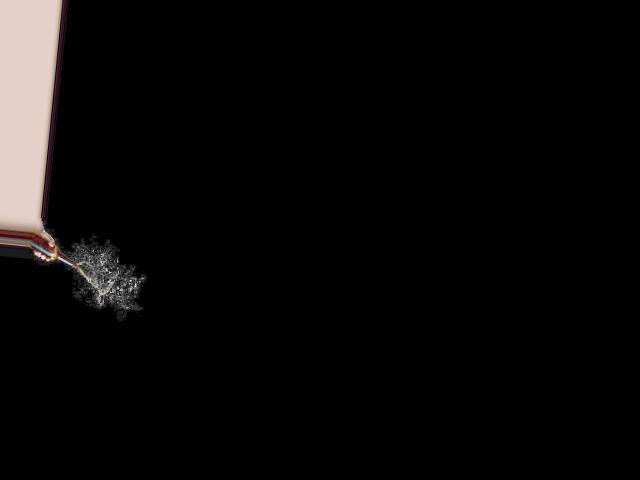beer: (28, 230, 80, 268)
